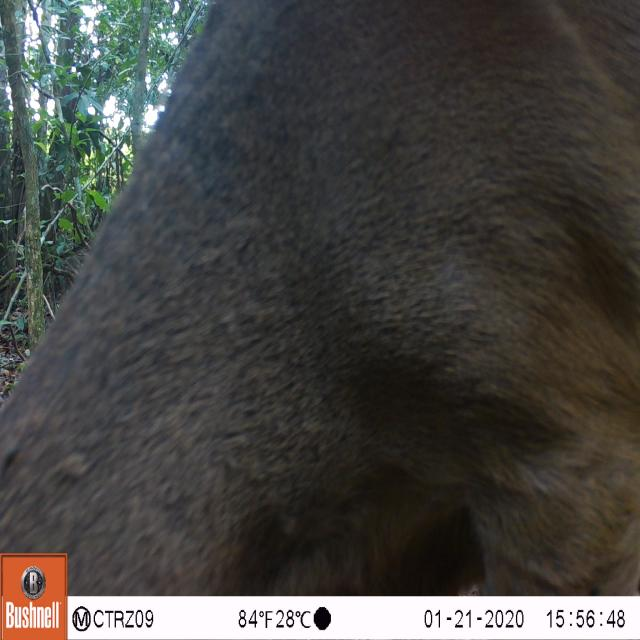White-tailed Deer: (3, 1, 640, 554)
